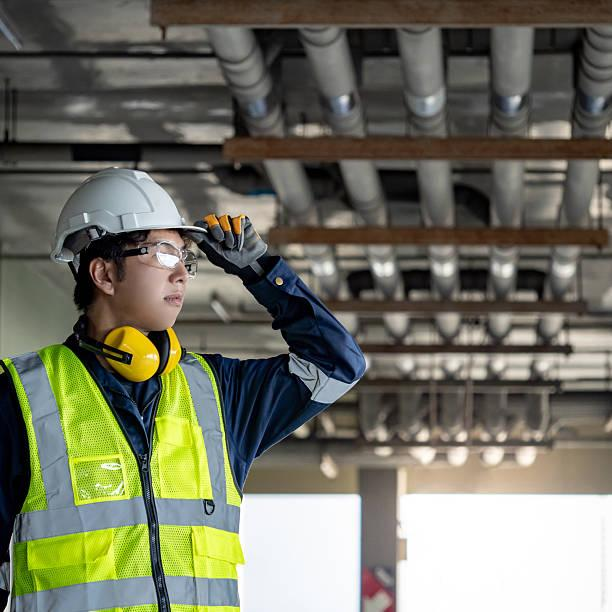goggle: (98, 233, 210, 286)
helmet: (29, 144, 218, 270)
vest: (2, 313, 269, 612)
